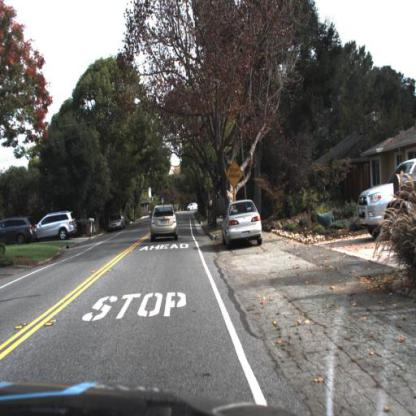car: (358, 157, 416, 247), (223, 195, 266, 251), (36, 211, 80, 240), (149, 205, 178, 245), (2, 215, 36, 249), (188, 199, 200, 217)
